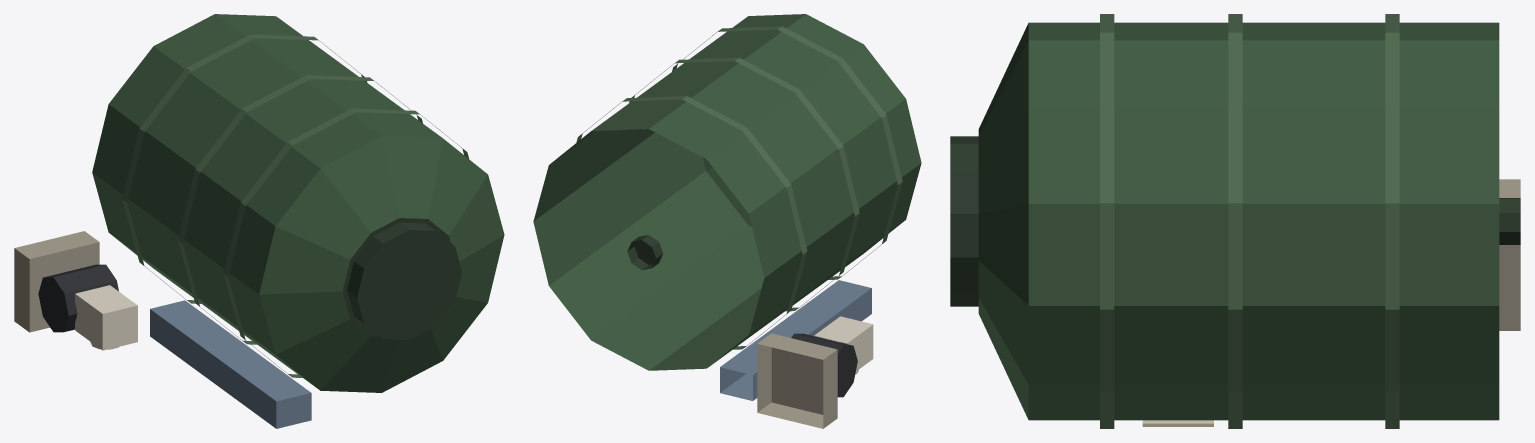
File: a_drip.obj
3 renders of one model, left to right at view 1: azimuth 30°, elevation 25°; view 2: azimuth 150°, elevation 25°; view 3: azimuth 270°, elevation 25°, orthographic. The views are drawn at different scales.
Size of the model in its own units: 0.732 by 0.632 by 0.8.
Materials: 1 (1 with a texture image).
